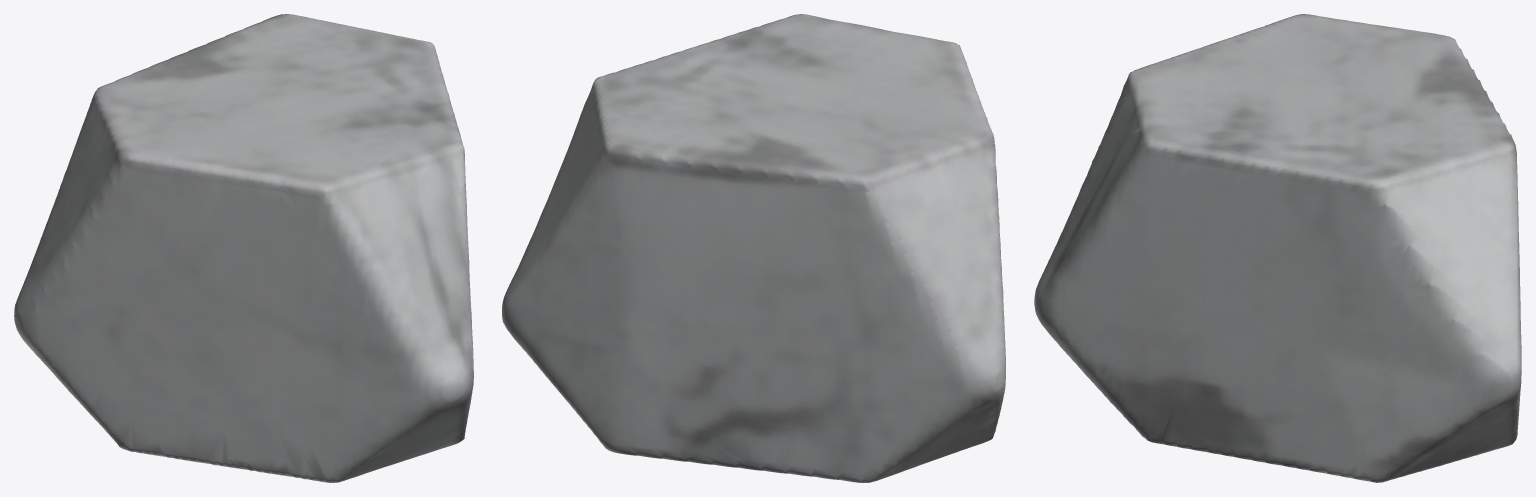
The model's file is item-20.glb.
3 views of the same model, side by side, from view 1: azimuth 30°, elevation 25°; view 2: azimuth 150°, elevation 25°; view 3: azimuth 270°, elevation 25° (orthographic). The views are drawn at different scales.
Visible parts, largest first — view 1: geometry_0; view 2: geometry_0; view 3: geometry_0.
Part boxes in pixels (x1,y1,x2,y2): geometry_0: [14, 14, 473, 482]; geometry_0: [502, 14, 1005, 482]; geometry_0: [1034, 14, 1521, 482].
Bounding box in the file's own units: 0.1587 × 0.1049 × 0.1533.
Materials: 1 (1 with a texture image).
